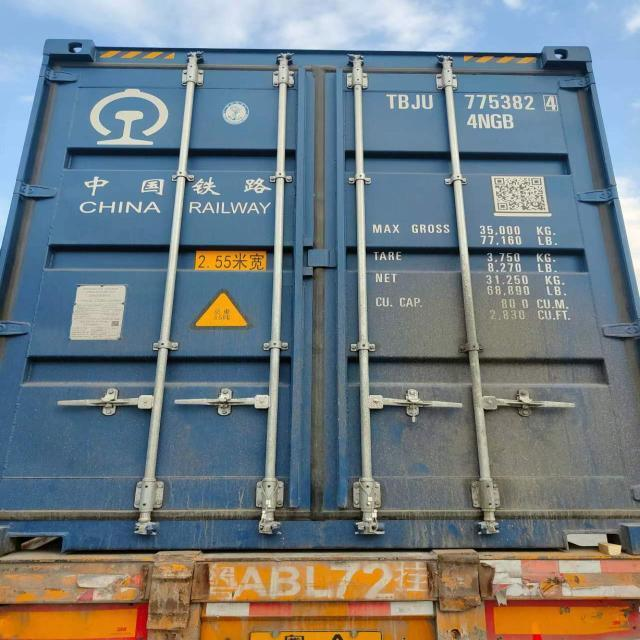ISO: (469, 114, 516, 130)
container_number: (389, 94, 554, 114)
